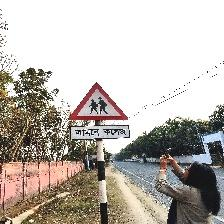College-in-front: (66, 75, 143, 154)
